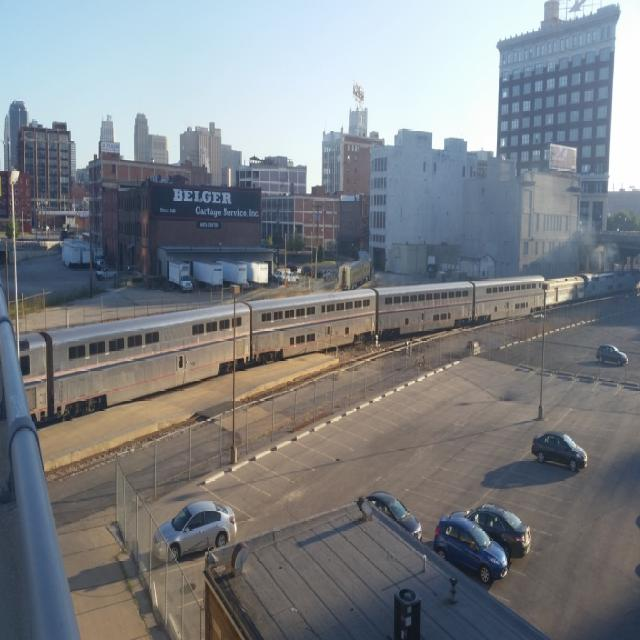car: (530, 429, 592, 467), (594, 341, 628, 366)
